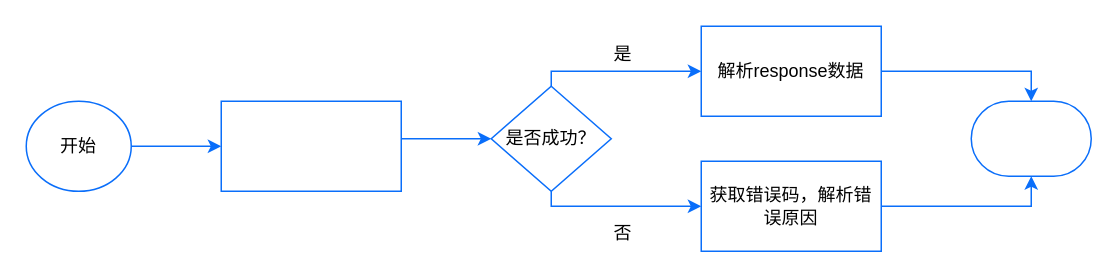
This 1118x278 diagram has some shape labels left out. The centre of each missing label's shape, as x and y in pixels:
"App调用全量实时数据restful接口" belongs at point (310, 145).
"结束" belongs at point (1030, 138).
